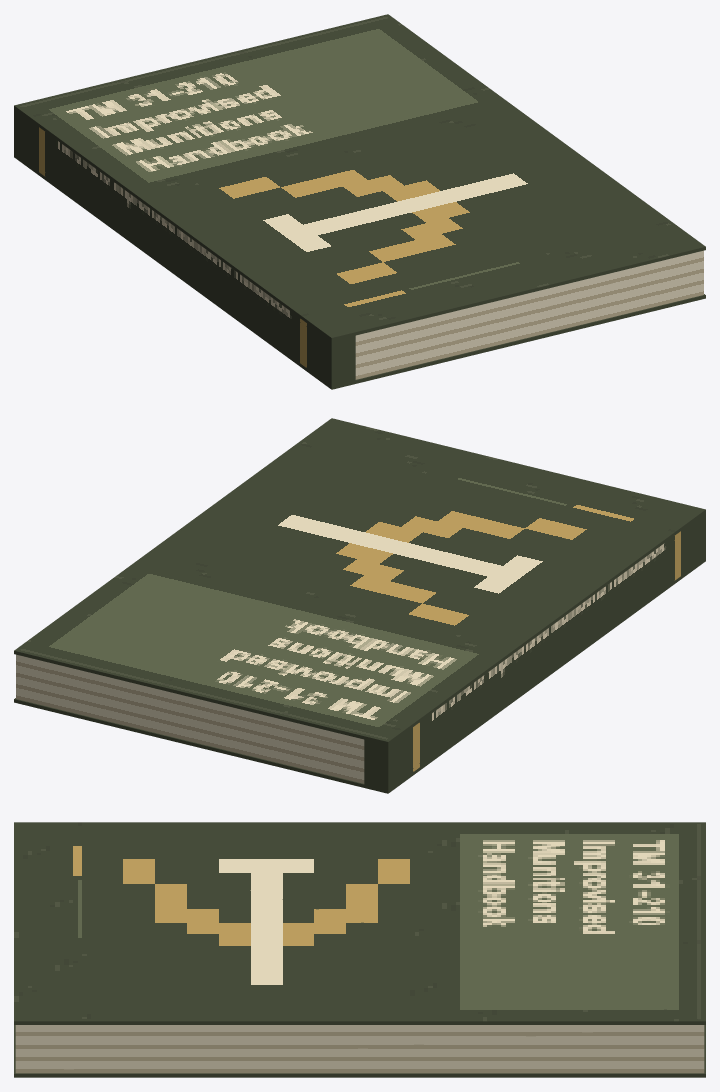
File: improvised_munition_handbook.glb
3 renders of one model, top to bottom at view 1: azimuth 30°, elevation 25°; view 2: azimuth 150°, elevation 25°; view 3: azimuth 270°, elevation 25°, orthographic. The views are drawn at different scales.
Visible parts, largest first — view 1: block_front cover, block_page block, block_spine, block_back cover; view 2: block_front cover, block_page block, block_spine, block_back cover; view 3: block_front cover, block_page block, block_back cover.
Boxes of the visible parts, box(x1,y1,x2,y2) form: block_front cover: box(14, 14, 705, 341); block_page block: box(355, 250, 703, 379); block_spine: box(14, 109, 355, 386); block_back cover: box(14, 154, 705, 389); block_front cover: box(14, 418, 705, 745); block_page block: box(16, 654, 364, 783); block_spine: box(364, 513, 705, 790); block_back cover: box(14, 558, 705, 793); block_front cover: box(14, 822, 705, 1024); block_page block: box(15, 1025, 704, 1073); block_back cover: box(14, 1025, 705, 1077).
Bounding box in the file's own units: 0.1414 × 0.0187 × 0.208.
1 material, 1 textured.
